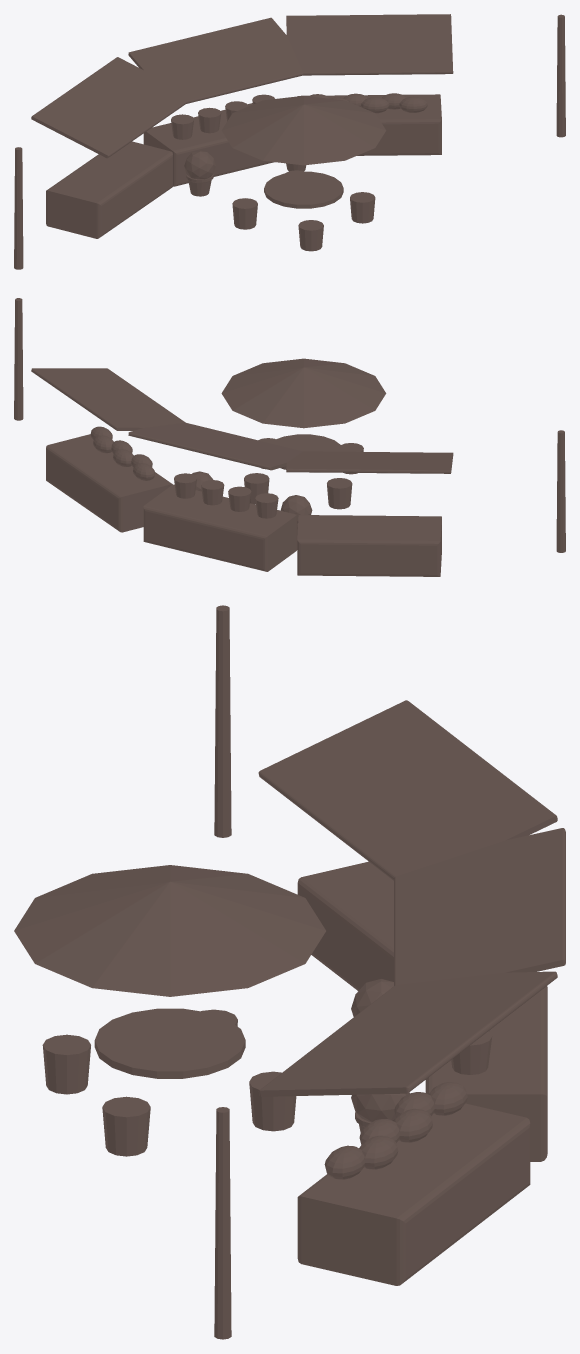
File: market.ol.glb
The picture shows the model from 3 angles, top to bottom: view 1: azimuth 30°, elevation 25°; view 2: azimuth 150°, elevation 25°; view 3: azimuth 270°, elevation 25°; orthographic projection. The views are drawn at different scales.
Bounding box in the file's own units: 18.27 × 4.11 × 8.37.
